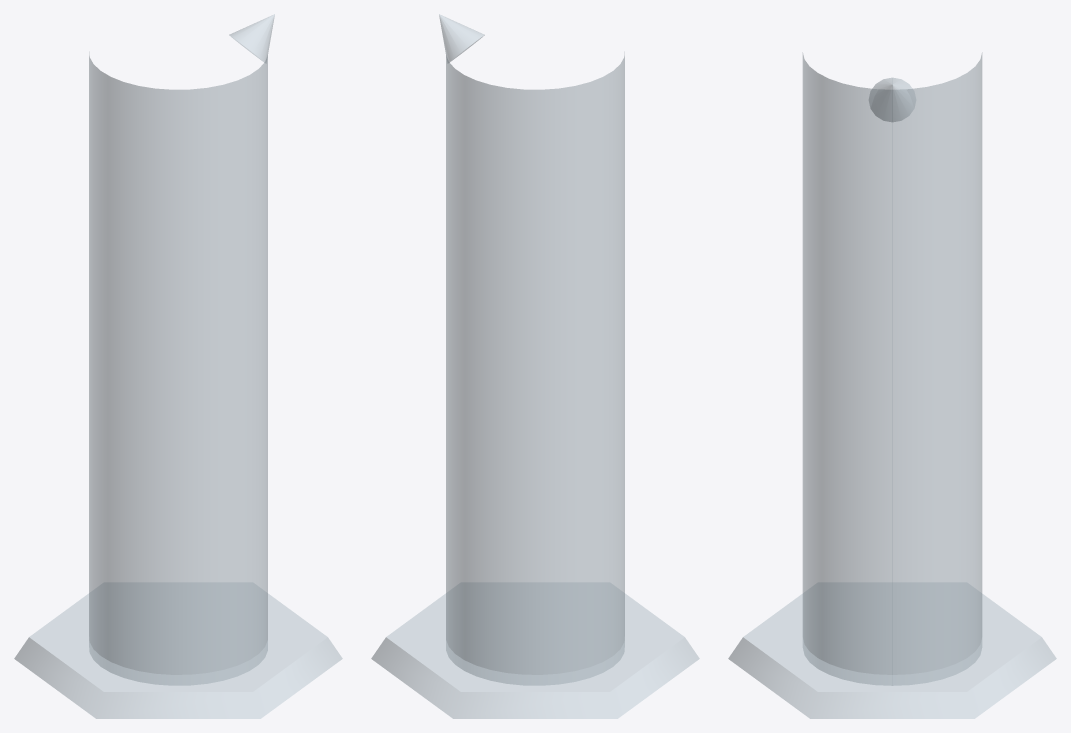
File: measuring-cylinder.glb
The picture shows the model from 3 angles, left to right: view 1: azimuth 30°, elevation 25°; view 2: azimuth 150°, elevation 25°; view 3: azimuth 270°, elevation 25°; orthographic projection.
Parts seen in each view (by area): view 1: MeasuringCylinder; view 2: MeasuringCylinder; view 3: MeasuringCylinder.
Boxes of the visible parts, bbox=[...] form: MeasuringCylinder: bbox=[14, 14, 342, 718]; MeasuringCylinder: bbox=[371, 14, 699, 718]; MeasuringCylinder: bbox=[728, 52, 1056, 718].
Size of the model in its own units: 0.9526 by 2.29 by 1.1.
